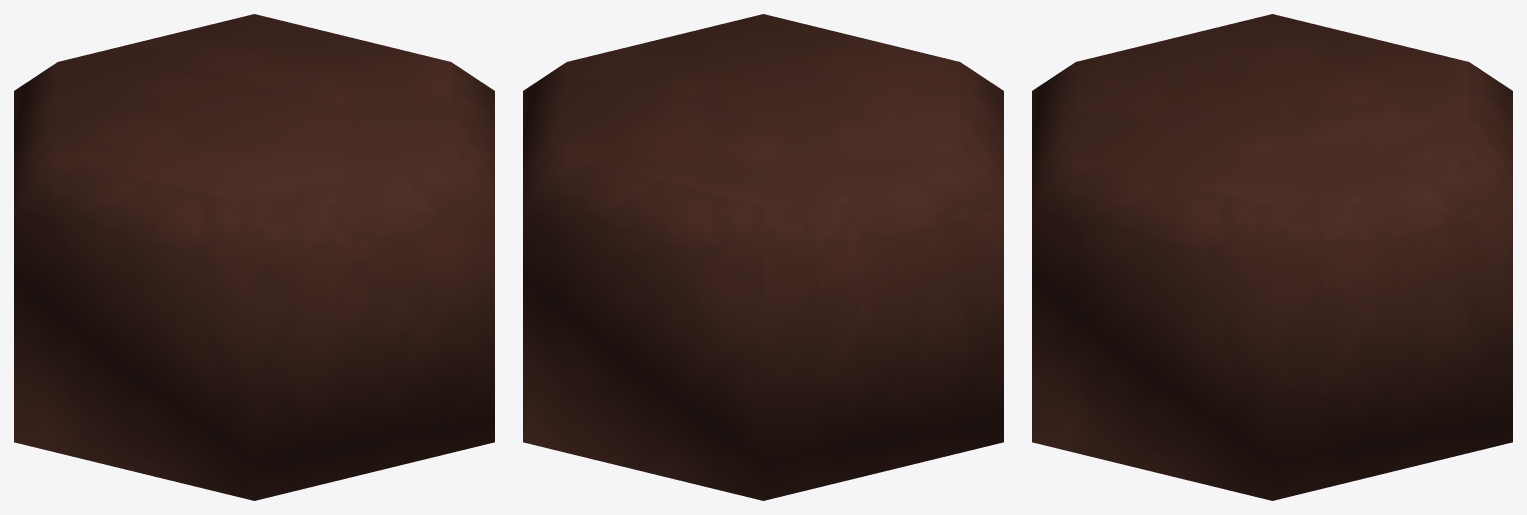
The model's file is Cake_C_02.FBX.
3 views of the same model, side by side, from view 1: azimuth 30°, elevation 25°; view 2: azimuth 150°, elevation 25°; view 3: azimuth 270°, elevation 25° (orthographic).
Parts seen in each view (by area): view 1: Cake_D; view 2: Cake_D; view 3: Cake_D.
Boxes of the visible parts, x1,y1,x2,y2 form: Cake_D: (14,14,494,500); Cake_D: (523,14,1003,500); Cake_D: (1032,14,1512,500).
Bounding box in the file's own units: 102 × 55.58 × 88.51.
